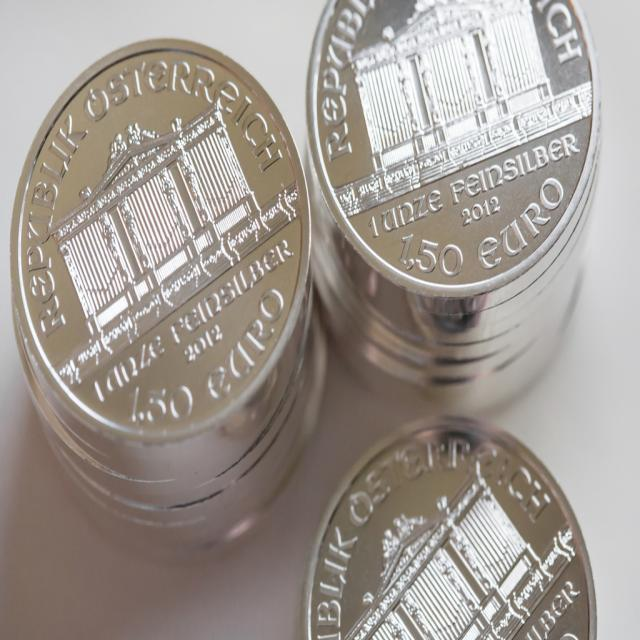Coin: (7, 49, 328, 540), (316, 0, 607, 401), (307, 415, 591, 639)
